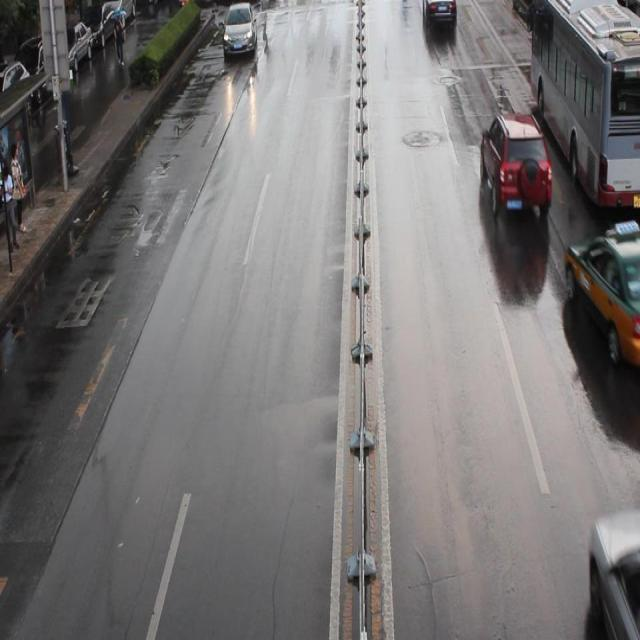car: (562, 229, 640, 370), (585, 506, 640, 640), (479, 111, 551, 208), (222, 1, 256, 57), (422, 1, 456, 24)
van: (528, 1, 640, 206)
